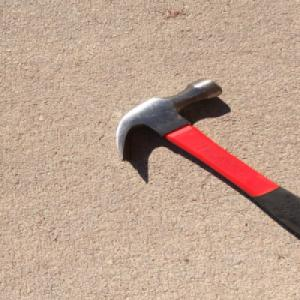Hammer: (111, 75, 300, 240)
